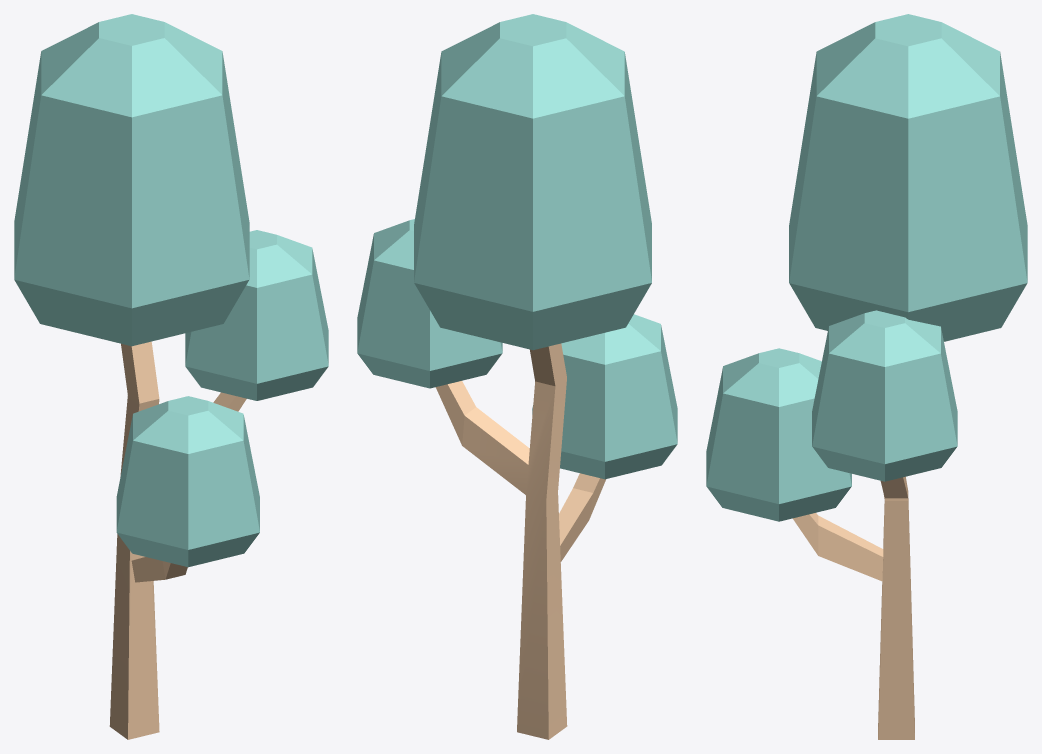
Rendered from tree_thin.glb.
3 renders of one model, left to right at view 1: azimuth 30°, elevation 25°; view 2: azimuth 150°, elevation 25°; view 3: azimuth 270°, elevation 25°, orthographic.
Visible parts, largest first — view 1: tree_thin; view 2: tree_thin; view 3: tree_thin.
Part boxes in pixels (box(x1,y1,x2,y2)): tree_thin: box(14, 14, 328, 739); tree_thin: box(357, 14, 677, 739); tree_thin: box(706, 14, 1027, 739).
Size of the model in its own units: 0.6804 by 1.49 by 0.6165.
